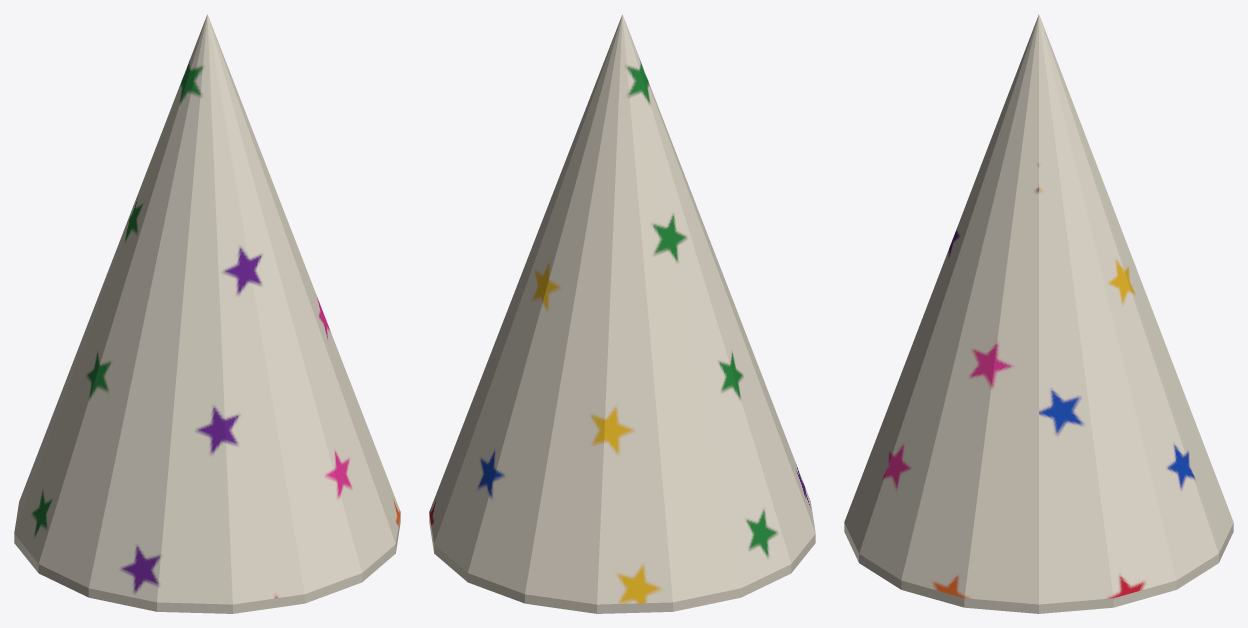
File: party_hat_stars.glb
The picture shows the model from 3 angles, left to right: view 1: azimuth 30°, elevation 25°; view 2: azimuth 150°, elevation 25°; view 3: azimuth 270°, elevation 25°; orthographic projection.
Visible parts, largest first — view 1: party_hat_stars; view 2: party_hat_stars; view 3: party_hat_stars.
Boxes of the visible parts, bbox=[...] form: party_hat_stars: bbox=[14, 14, 400, 613]; party_hat_stars: bbox=[429, 14, 815, 613]; party_hat_stars: bbox=[844, 14, 1233, 613].
Bounding box in the file's own units: 0.15 × 0.22 × 0.15.
2 materials, 2 textured.
